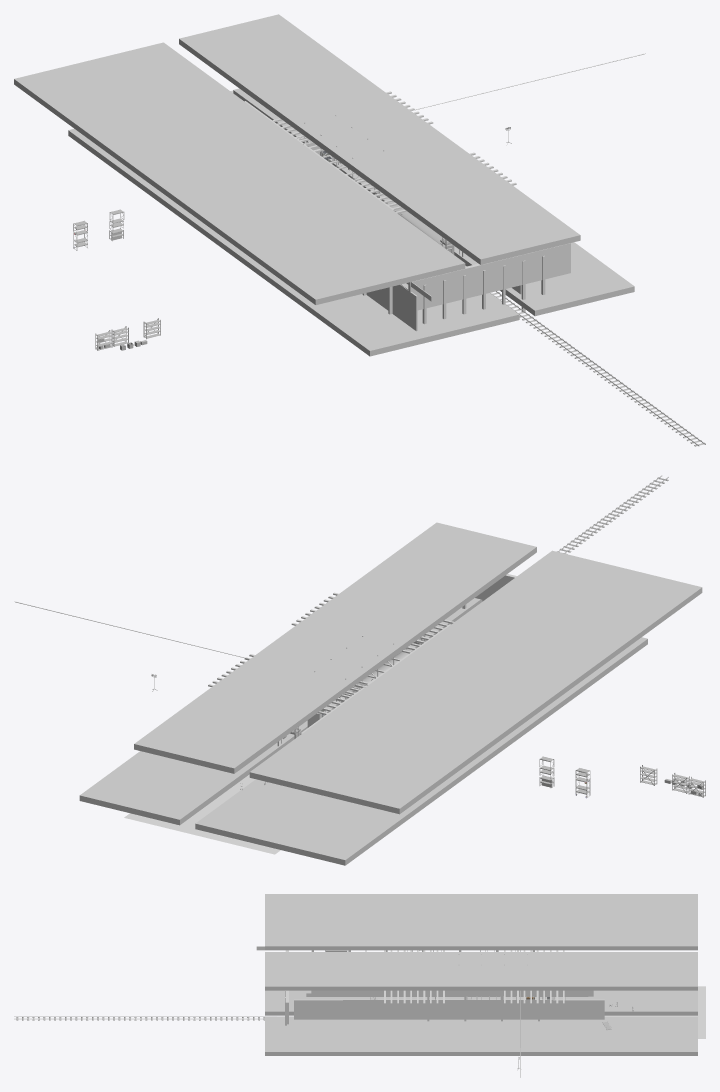
File: interior.fbx
3 renders of one model, top to bottom at view 1: azimuth 30°, elevation 25°; view 2: azimuth 150°, elevation 25°; view 3: azimuth 270°, elevation 25°, orthographic. The views are drawn at different scales.
Parts seen in each view (by area): view 1: Cube.087, Cube, Cube.005, Object_2, Cube.040, Cube.049; view 2: Cube.087, Cube, Plane, Object_2; view 3: Cube.087, Cube, Cube.002, Cube.004, Object_2, Plane, Cube.012, Cube.086, Cube.050, Cube.028.
Part boxes in pixels (<box>): Cube.087: <box>14,14,580,304</box>; Cube: <box>68,88,634,356</box>; Cube.005: <box>408,243,570,311</box>; Object_2: <box>490,291,705,446</box>; Cube.040: <box>366,284,417,330</box>; Cube.049: <box>422,255,545,323</box>; Cube.087: <box>134,522,702,814</box>; Cube: <box>79,598,647,865</box>; Plane: <box>124,774,280,854</box>; Object_2: <box>557,475,668,554</box>; Cube.087: <box>265,894,697,990</box>; Cube: <box>265,990,697,1055</box>; Cube.002: <box>294,999,604,1019</box>; Cube.004: <box>311,990,593,996</box>; Object_2: <box>14,1016,293,1020</box>; Plane: <box>604,986,705,1038</box>; Cube.012: <box>384,950,444,1004</box>; Cube.086: <box>504,950,564,1004</box>; Cube.050: <box>343,999,552,1000</box>; Cube.028: <box>427,990,539,1021</box>.
Size of what is drawn, in the model's own units: 82205 by 13167 by 110940.
